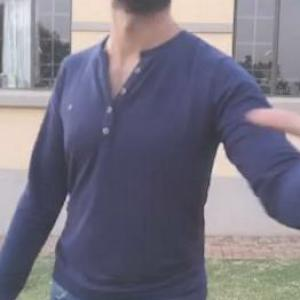land_hand: (247, 15, 300, 205)
